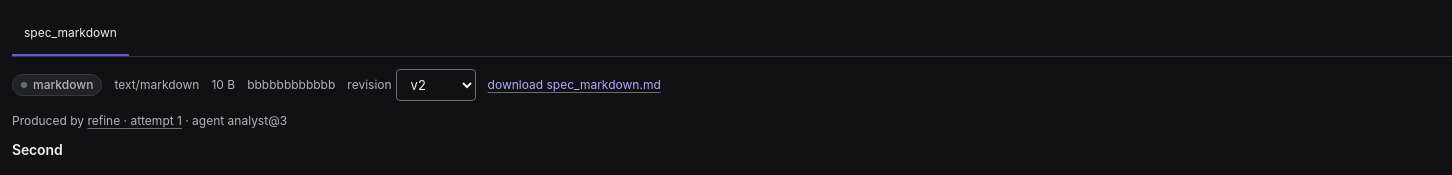
it: the artifacts of a work item (S31-04) › shows the latest revision, its producer and readers, and switches revisions
Check: the heading "Second" is shown, box [12,141,62,158]
Check: the element with test id "artifact-producer" reads "Produced by refine · attempt 1 · agent analyst@3", box [12,113,287,128]
Select "v1" in the dropdown labelled "revision" at [436, 85], box [396,69,476,101]
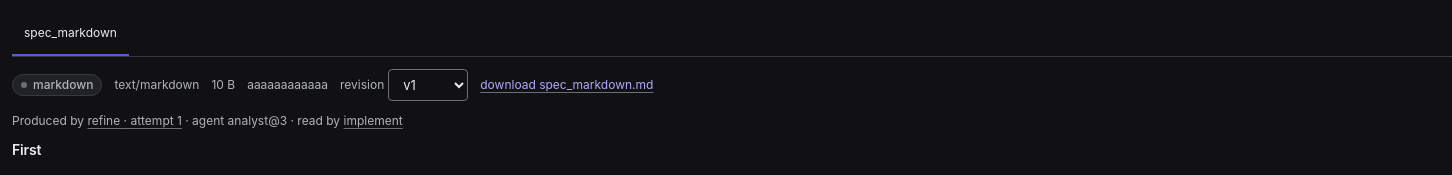
Check: the heading "First" is shown, box [12,141,41,158]
